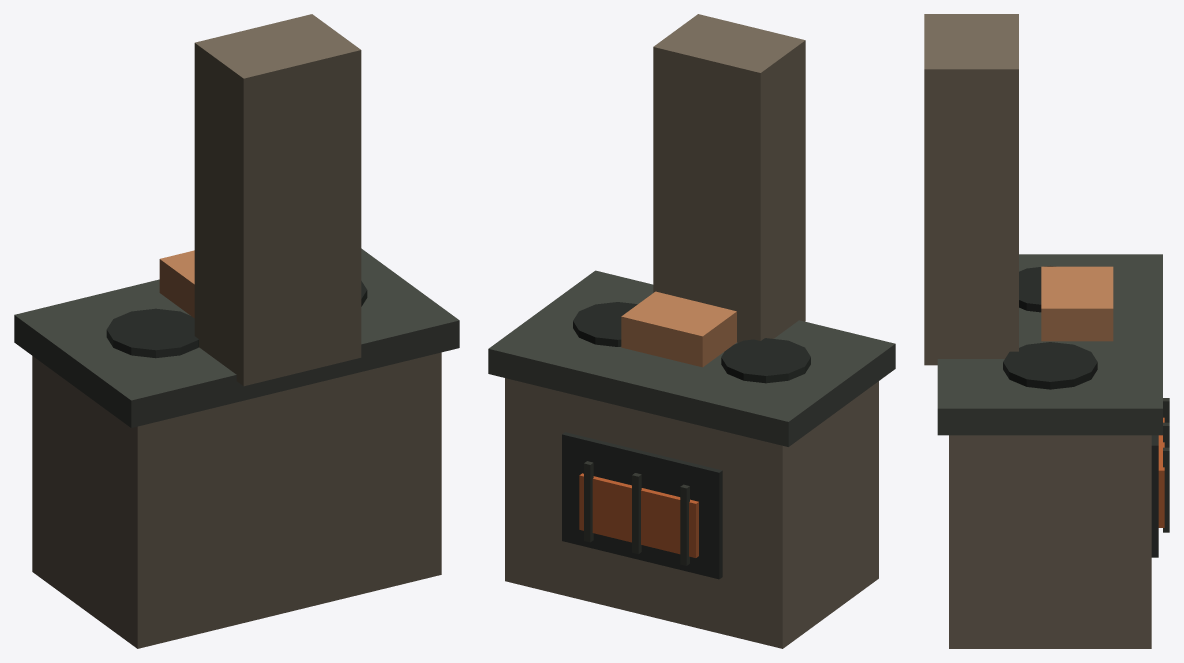
3 views of the same model, side by side, from view 1: azimuth 30°, elevation 25°; view 2: azimuth 150°, elevation 25°; view 3: azimuth 270°, elevation 25° (orthographic). The views are drawn at different scales.
Parts seen in each view (by area): view 1: 24ee53a0cf4dd90523c060273d06cdefdd17834bd47e96ab45845c152e67; view 2: 24ee53a0cf4dd90523c060273d06cdefdd17834bd47e96ab45845c152e67; view 3: 24ee53a0cf4dd90523c060273d06cdefdd17834bd47e96ab45845c152e67.
Part boxes in pixels (box(x1,y1,x2,y2)): 24ee53a0cf4dd90523c060273d06cdefdd17834bd47e96ab45845c152e67: box(14, 14, 459, 648); 24ee53a0cf4dd90523c060273d06cdefdd17834bd47e96ab45845c152e67: box(488, 14, 895, 648); 24ee53a0cf4dd90523c060273d06cdefdd17834bd47e96ab45845c152e67: box(924, 14, 1169, 648).
Size of the model in its own units: 1.62 by 2.62 by 1.09.
2 materials, 1 textured.
